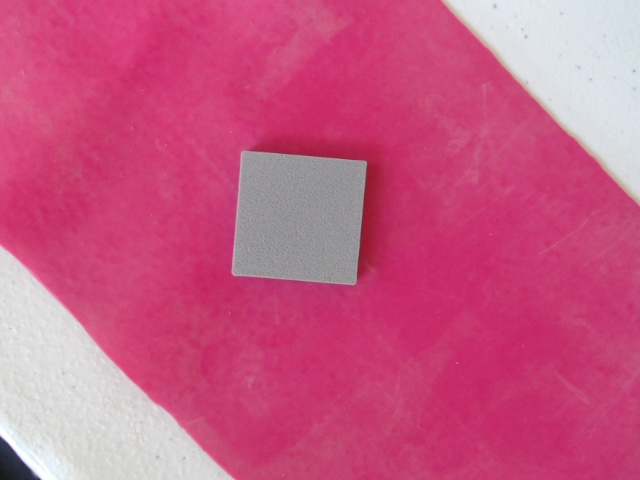Defective: (228, 145, 370, 299)
